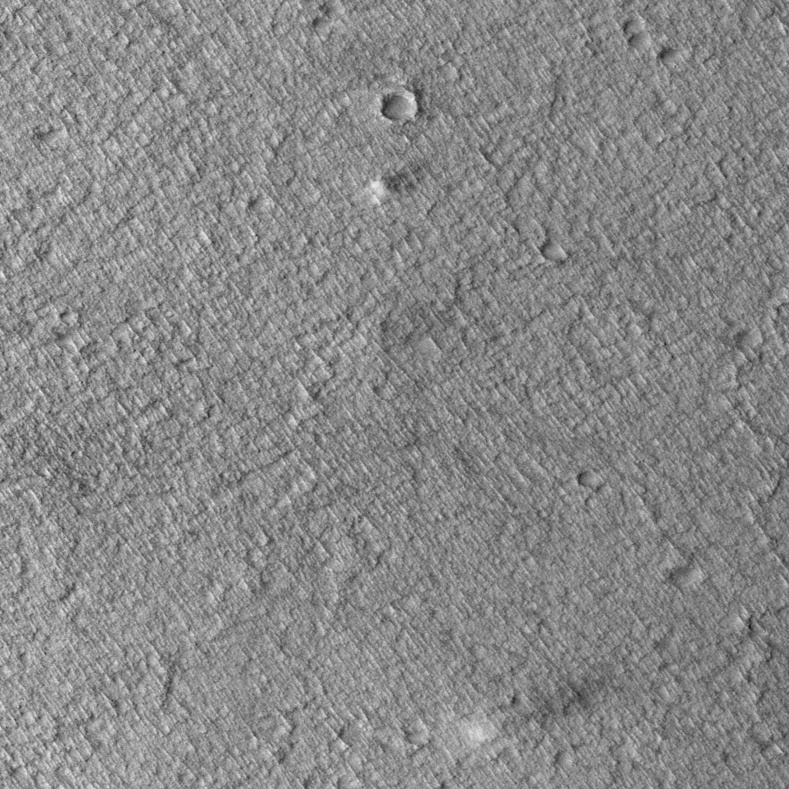dust_devil: (461, 666, 611, 750), (363, 161, 427, 210)
